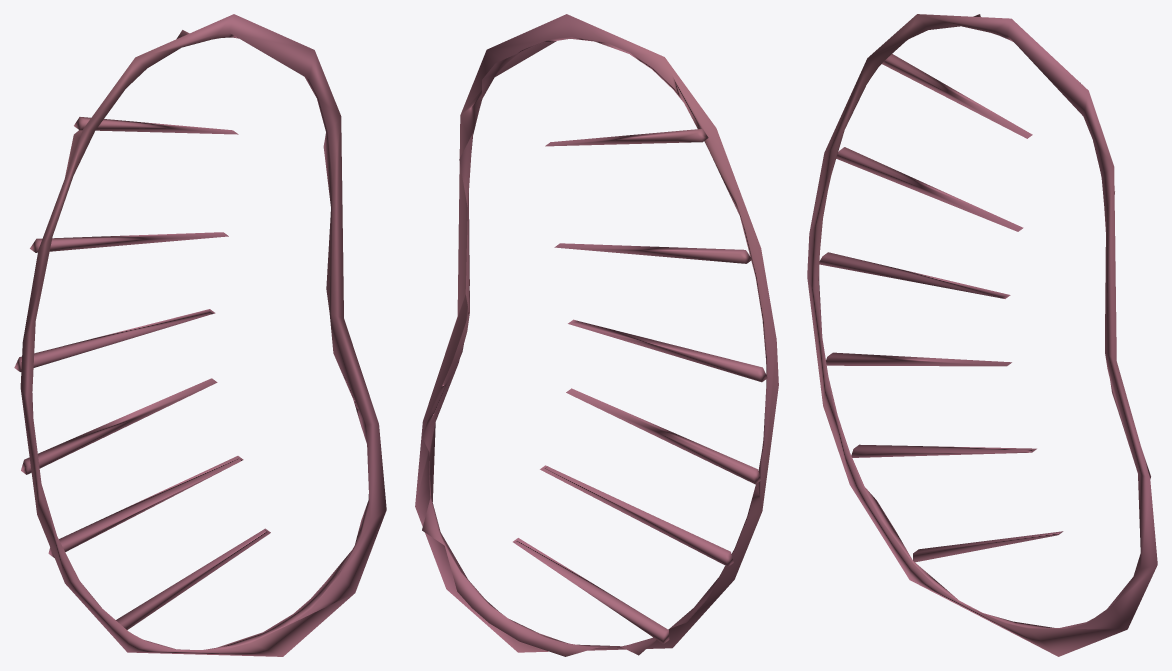
The picture shows the model from 3 angles, left to right: view 1: azimuth 30°, elevation 25°; view 2: azimuth 150°, elevation 25°; view 3: azimuth 330°, elevation 25°; orthographic projection. The views are drawn at different scales.
Parts seen in each view (by area): view 1: LOD 4_16192670299155889494_a1e5460f9667e624384844bb77a670e0; view 2: LOD 4_16192670299155889494_a1e5460f9667e624384844bb77a670e0; view 3: LOD 4_16192670299155889494_a1e5460f9667e624384844bb77a670e0.
Boxes of the visible parts, x1,y1,x2,y2 form: LOD 4_16192670299155889494_a1e5460f9667e624384844bb77a670e0: (14, 14, 386, 656); LOD 4_16192670299155889494_a1e5460f9667e624384844bb77a670e0: (415, 14, 778, 656); LOD 4_16192670299155889494_a1e5460f9667e624384844bb77a670e0: (807, 14, 1157, 656).
Size of the model in its own units: 4.07 by 6.95 by 0.2311.
